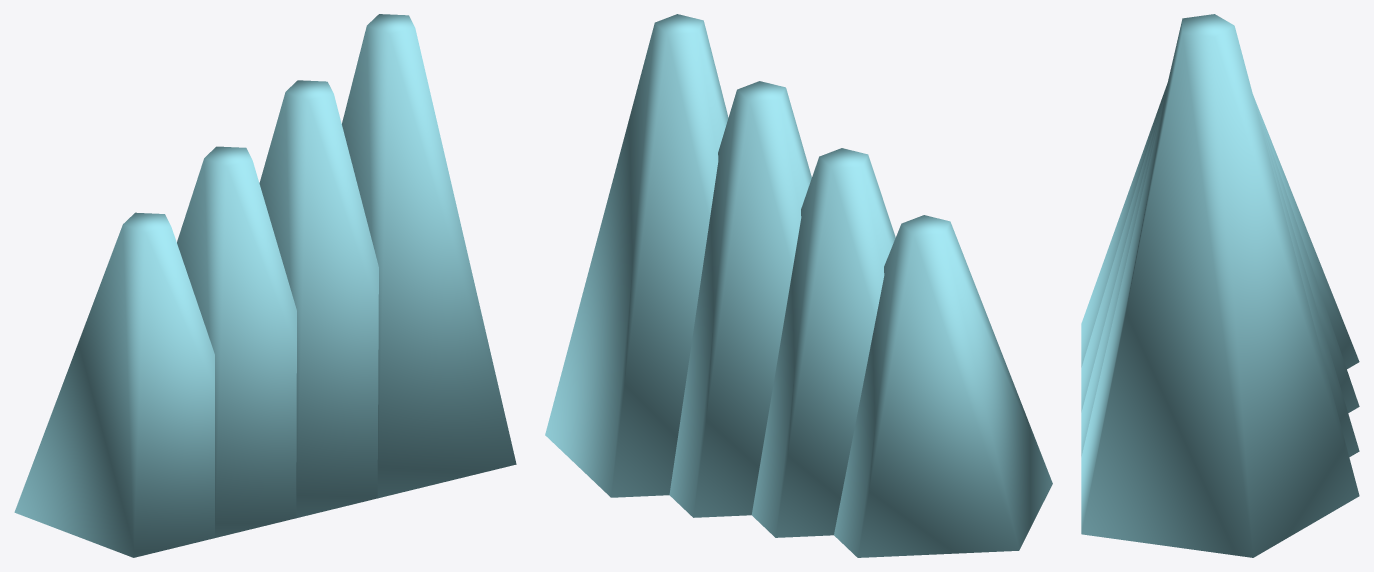
Rendered from Iceberg.glb.
3 renders of one model, left to right at view 1: azimuth 30°, elevation 25°; view 2: azimuth 150°, elevation 25°; view 3: azimuth 270°, elevation 25°, orthographic. The views are drawn at different scales.
Visible parts, largest first — view 1: Ice pinnacle.003, Ice pinnacle, Ice pinnacle.002, Ice pinnacle.001; view 2: Ice pinnacle.003, Ice pinnacle, Ice pinnacle.002, Ice pinnacle.001; view 3: Ice pinnacle.003, Ice pinnacle.002, Ice pinnacle.001, Ice pinnacle.
Part boxes in pixels (x1,y1,x2,y2): Ice pinnacle.003: (342, 14, 516, 498); Ice pinnacle: (14, 212, 214, 557); Ice pinnacle.002: (259, 80, 378, 518); Ice pinnacle.001: (177, 146, 296, 537); Ice pinnacle.003: (545, 14, 728, 497); Ice pinnacle: (834, 215, 1052, 557); Ice pinnacle.002: (669, 81, 811, 517); Ice pinnacle.001: (751, 148, 895, 537); Ice pinnacle.003: (1081, 14, 1359, 557); Ice pinnacle.002: (1081, 87, 1359, 457); Ice pinnacle.001: (1081, 85, 1359, 412); Ice pinnacle: (1081, 86, 1359, 368).
Bounding box in the file's own units: 3.17 × 2.7 × 1.45.
